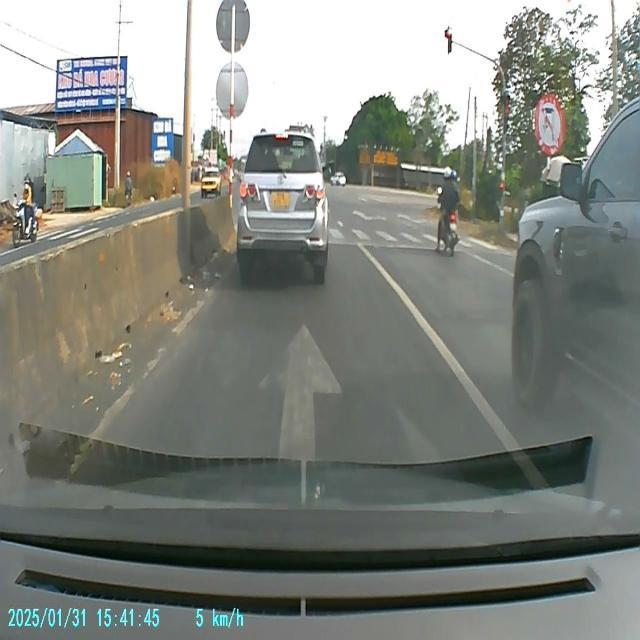124a-cam-quay-dau-xe: (536, 91, 564, 152)
